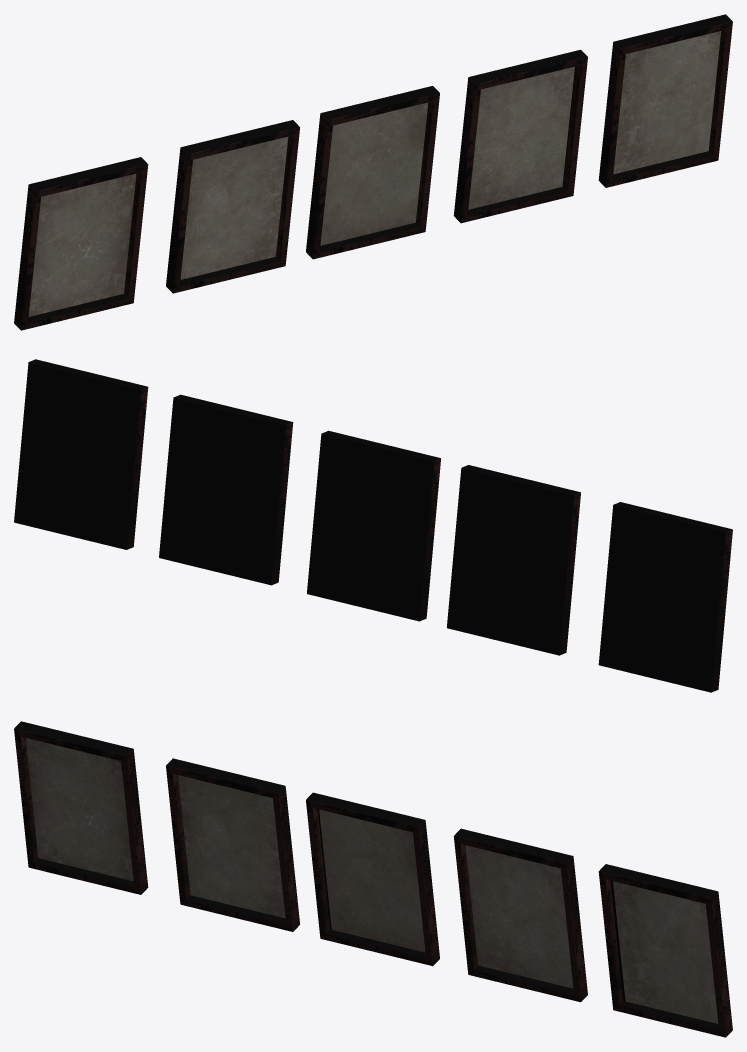
Rendered from hallofframes.FBX.
3 views of the same model, one above another, from view 1: azimuth 30°, elevation 25°; view 2: azimuth 150°, elevation 25°; view 3: azimuth 330°, elevation 25° (orthographic).
Visible parts, largest first — view 1: hallframe1, hallframe5, hallframe3, hallframe4, hallframe2; view 2: hallframe4, hallframe1, hallframe5, hallframe2, hallframe3; view 3: hallframe1, hallframe5, hallframe3, hallframe4, hallframe2.
Part boxes in pixels (bbox=[...]): hallframe1: bbox=[14, 157, 148, 330]; hallframe5: bbox=[598, 14, 732, 187]; hallframe3: bbox=[306, 86, 439, 259]; hallframe4: bbox=[453, 49, 587, 223]; hallframe2: bbox=[166, 120, 299, 293]; hallframe4: bbox=[159, 394, 293, 585]; hallframe1: bbox=[598, 502, 732, 692]; hallframe5: bbox=[14, 359, 148, 549]; hallframe2: bbox=[447, 465, 580, 655]; hallframe3: bbox=[307, 430, 440, 621]; hallframe1: bbox=[14, 721, 148, 894]; hallframe5: bbox=[598, 864, 732, 1037]; hallframe3: bbox=[306, 792, 439, 965]; hallframe4: bbox=[453, 828, 587, 1002]; hallframe2: bbox=[166, 758, 299, 931].
Bounding box in the file's own units: 773 × 41.74 × 161.
